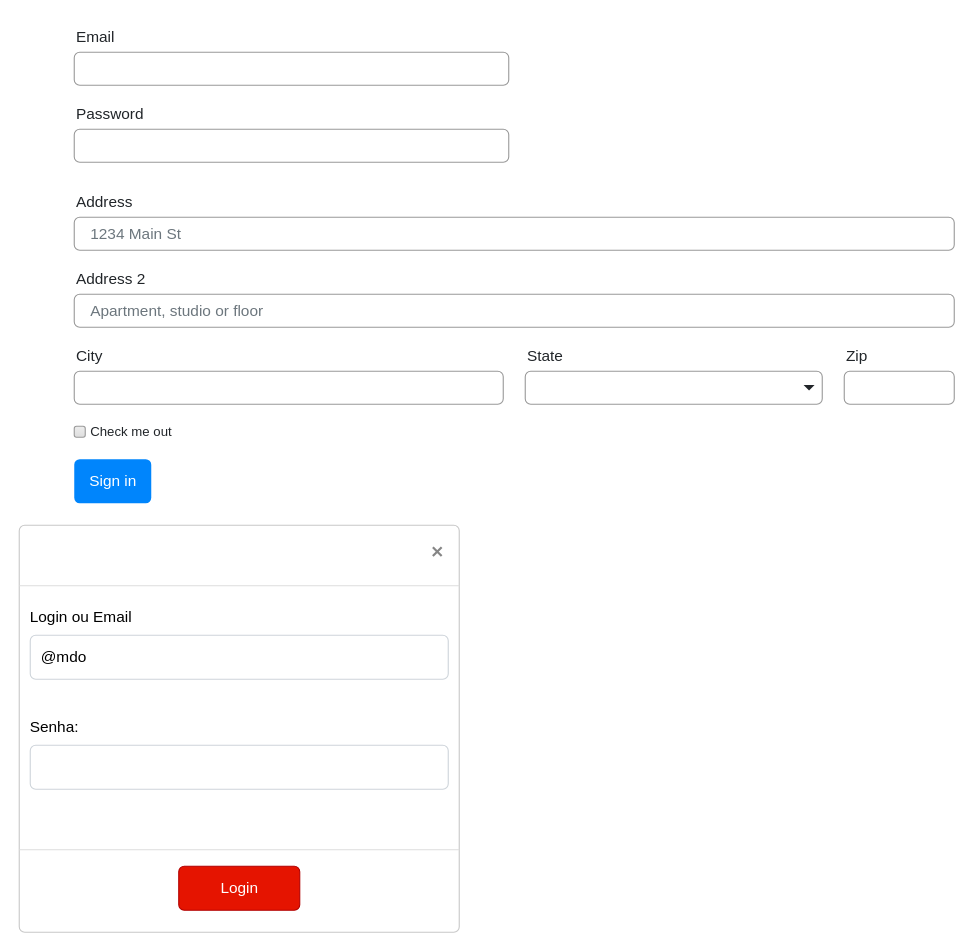
This 974x952 diagram has some shape labels left out. The centre of each missing label's shape, as x and y in pixels:
"Choose..." belongs at point (673, 387).
"Connect Fiap" belongs at point (238, 728).
